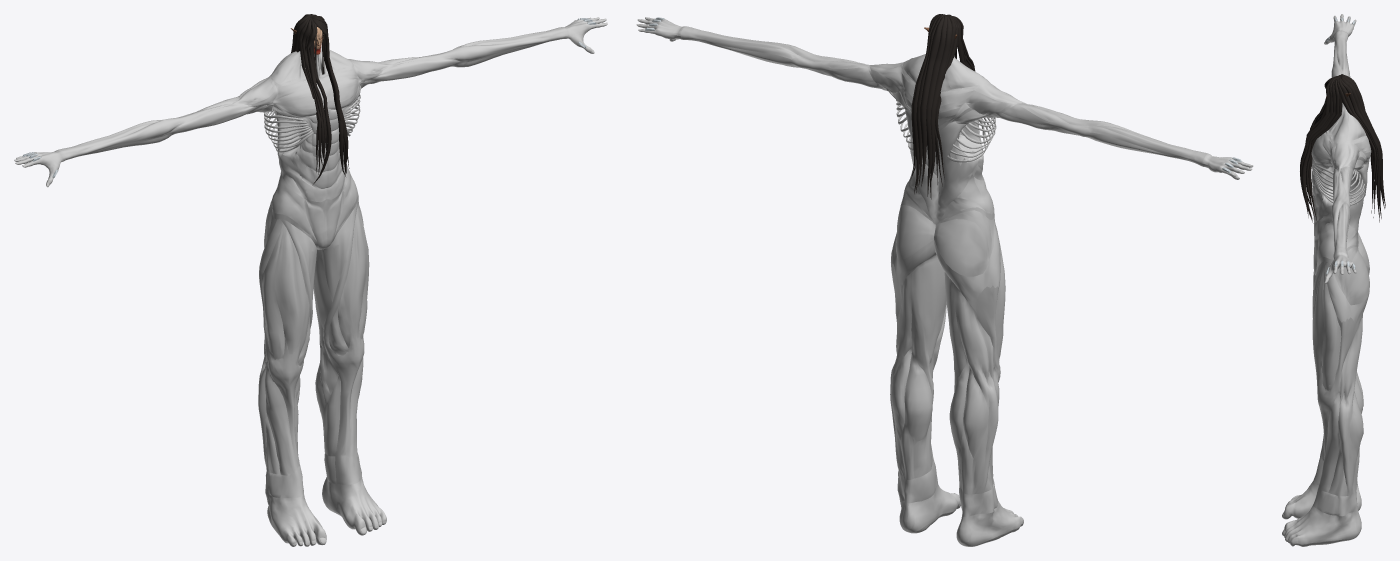
The model's file is Eren Colossal Titan.fbx.
3 views of the same model, side by side, from view 1: azimuth 30°, elevation 25°; view 2: azimuth 150°, elevation 25°; view 3: azimuth 270°, elevation 25° (orthographic). The views are drawn at different scales.
Parts seen in each view (by area): view 1: Eren Colossal Titan; view 2: Eren Colossal Titan; view 3: Eren Colossal Titan.
Part boxes in pixels (bbox=[...]): Eren Colossal Titan: bbox=[14, 14, 607, 546]; Eren Colossal Titan: bbox=[636, 14, 1253, 546]; Eren Colossal Titan: bbox=[1282, 14, 1385, 546].
Size of the model in its own units: 3704 by 3008 by 626.
